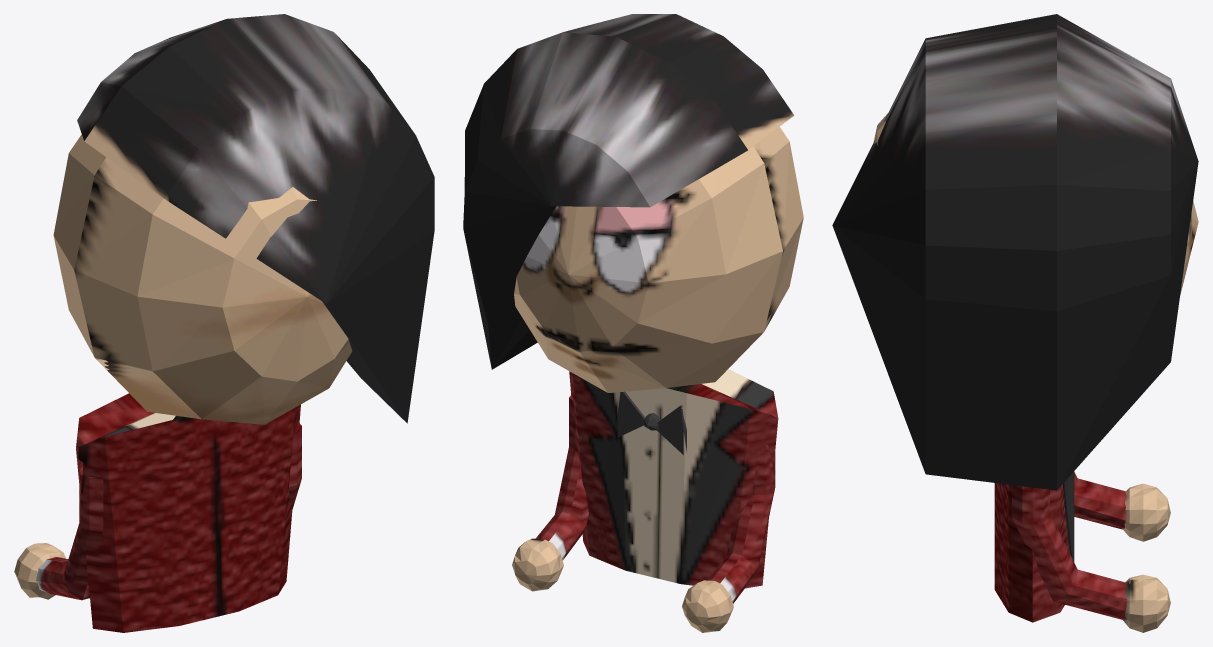
Rendered from Rec.glb.
3 views of the same model, side by side, from view 1: azimuth 30°, elevation 25°; view 2: azimuth 150°, elevation 25°; view 3: azimuth 270°, elevation 25° (orthographic). The views are drawn at different scales.
Visible parts, largest first — view 1: Rec; view 2: Rec; view 3: Rec.
Boxes of the visible parts, bbox=[...] form: Rec: bbox=[14, 14, 434, 632]; Rec: bbox=[463, 14, 803, 632]; Rec: bbox=[832, 14, 1198, 632].
Bounding box in the file's own units: 231 × 386 × 221.
Materials: 1 (1 with a texture image).
